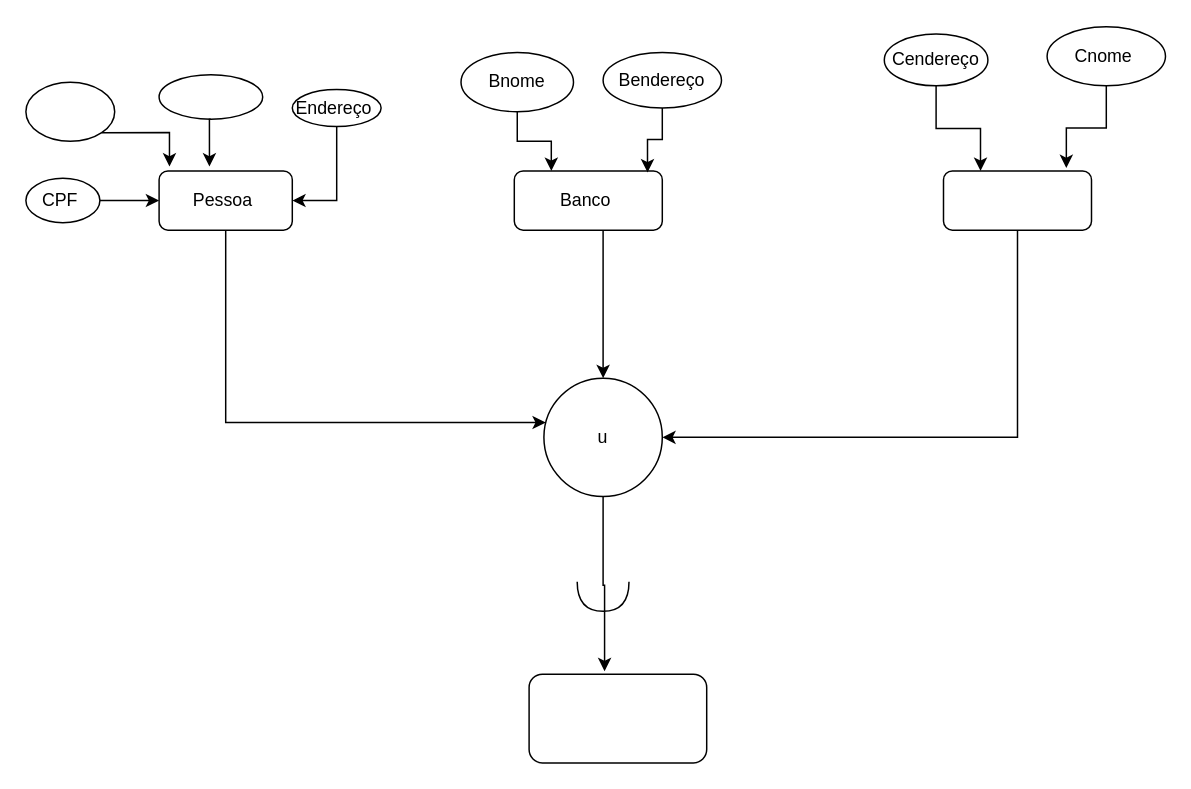
The diagram is 1191 pixels wide and 789 high, and some of its shapes have lost their labels. The shapes that lost their labels are listed below. From the top down, each one's centre as x and y in pixels, then its label:
the point at 69,111: Lincença
the point at 210,96: Nome
the point at 1017,199: Company
the point at 617,718: Owner
